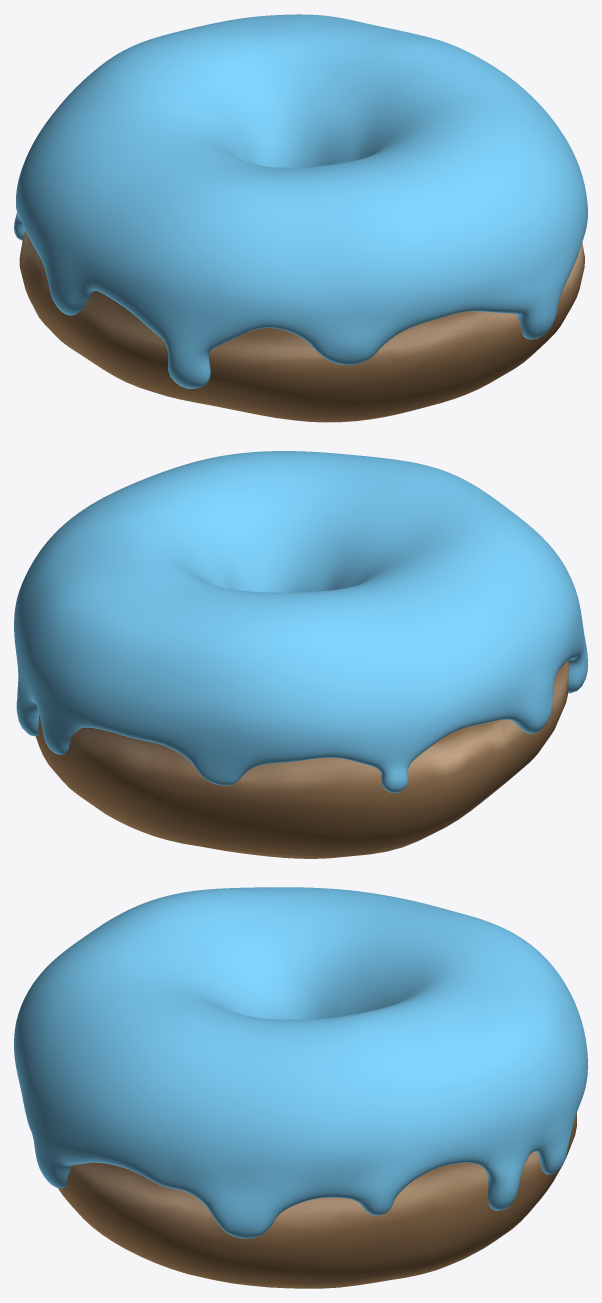
The picture shows the model from 3 angles, top to bottom: view 1: azimuth 30°, elevation 25°; view 2: azimuth 150°, elevation 25°; view 3: azimuth 270°, elevation 25°; orthographic projection.
Visible parts, largest first — view 1: icing, donut; view 2: icing, donut; view 3: icing, donut.
Boxes of the visible parts, x1,y1,x2,y2 form: icing: (14, 14, 587, 388); donut: (19, 230, 584, 422); icing: (14, 451, 587, 792); donut: (35, 660, 568, 858); icing: (14, 887, 587, 1238); donut: (58, 1113, 576, 1288).
Bounding box in the file's own units: 0.1034 × 0.0501 × 0.1034.
3 materials, 1 textured.
